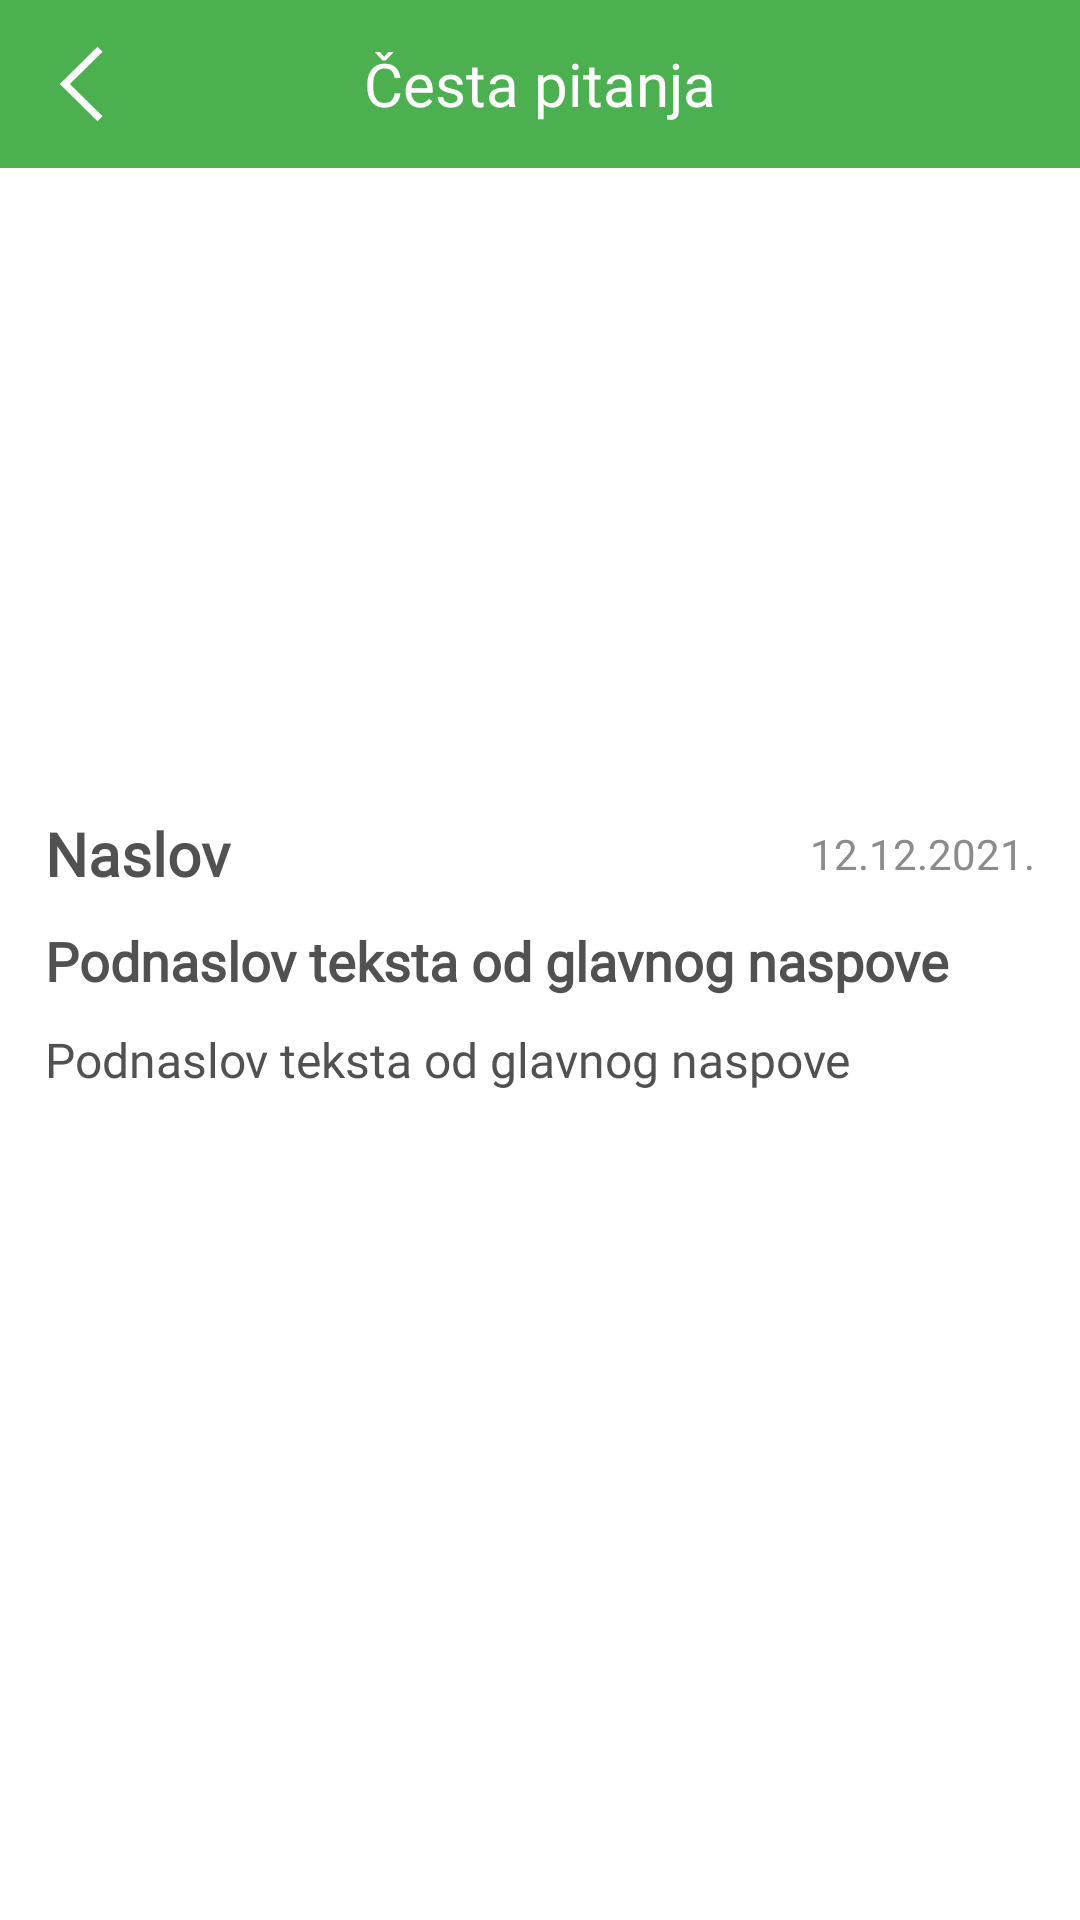

Screen size 1080×1920. Icon name, then its center in pixels as (x,y):
back: (81,84)
